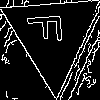F: (27, 11, 71, 45)
